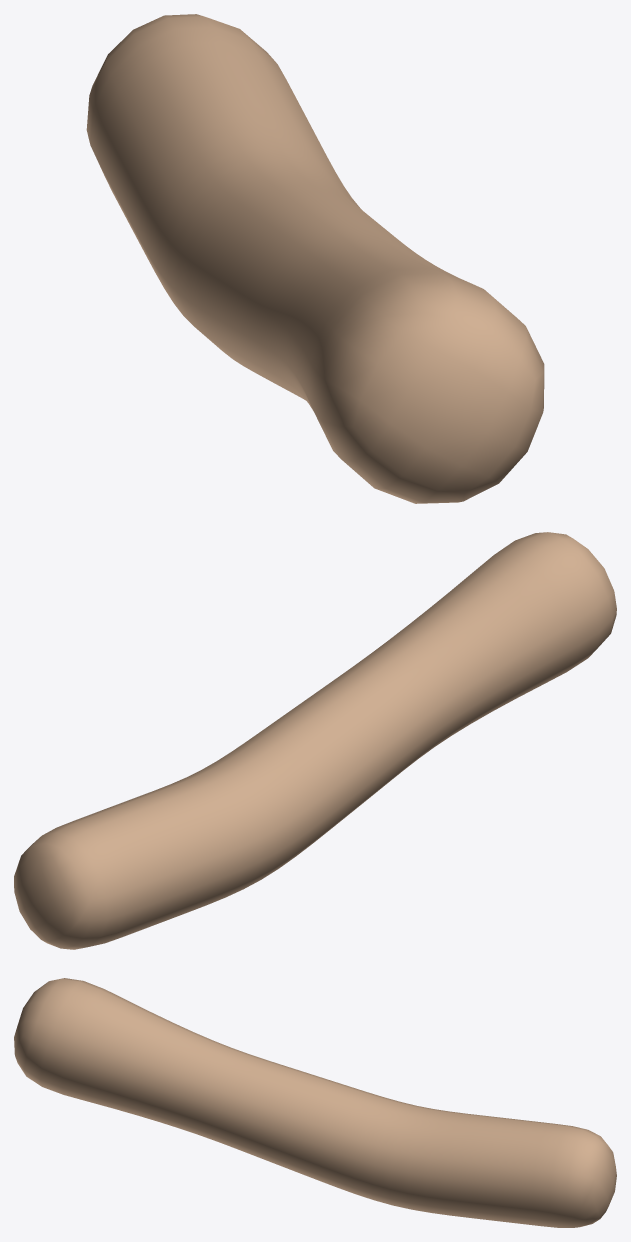
The picture shows the model from 3 angles, top to bottom: view 1: azimuth 30°, elevation 25°; view 2: azimuth 150°, elevation 25°; view 3: azimuth 270°, elevation 25°; orthographic projection. The views are drawn at different scales.
Visible parts, largest first — view 1: 左侧桡侧腕屈肌腱鞘; view 2: 左侧桡侧腕屈肌腱鞘; view 3: 左侧桡侧腕屈肌腱鞘.
Boxes of the visible parts, x1,y1,x2,y2 form: 左侧桡侧腕屈肌腱鞘: (86,14,544,503); 左侧桡侧腕屈肌腱鞘: (14,532,616,949); 左侧桡侧腕屈肌腱鞘: (14,978,616,1227).
Bounding box in the file's own units: 0.0225 × 0.0171 × 0.0523.
